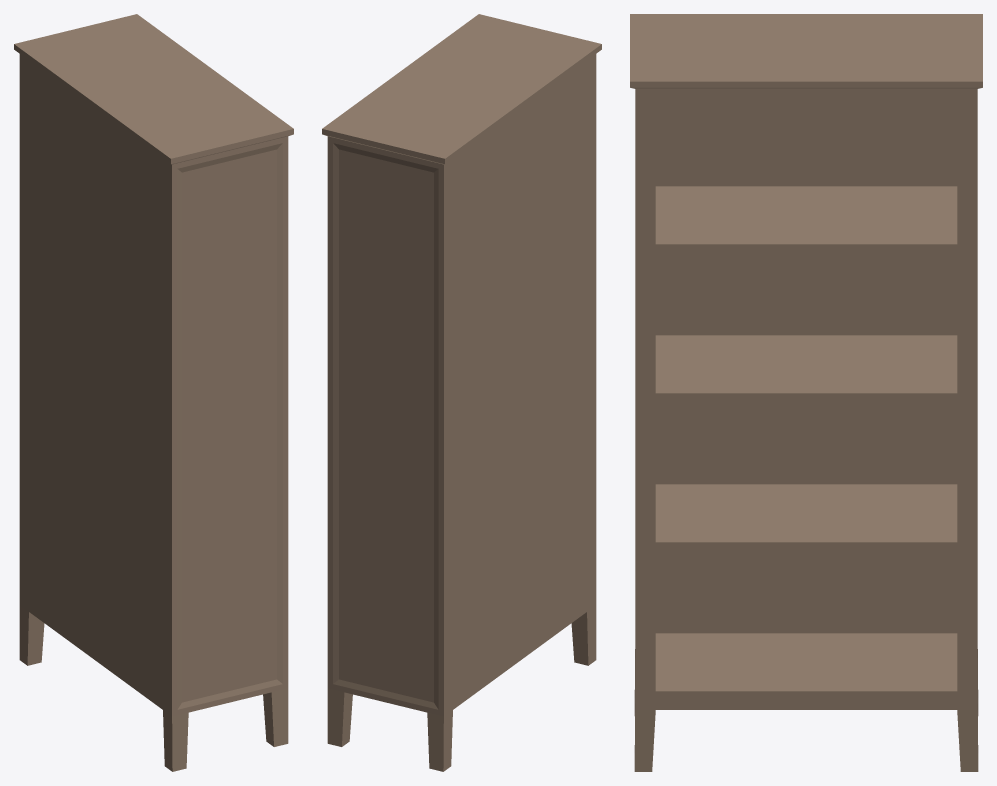
The model's file is bookshelf.dae.
3 views of the same model, side by side, from view 1: azimuth 30°, elevation 25°; view 2: azimuth 150°, elevation 25°; view 3: azimuth 270°, elevation 25° (orthographic). The views are drawn at different scales.
Visible parts, largest first — view 1: shelf; view 2: shelf; view 3: shelf.
Part boxes in pixels (x1,y1,x2,y2): shelf: (14, 14, 293, 771); shelf: (322, 14, 601, 771); shelf: (630, 14, 982, 771).
Size of the model in its own units: 0.9332 by 2.06 by 4.46.
